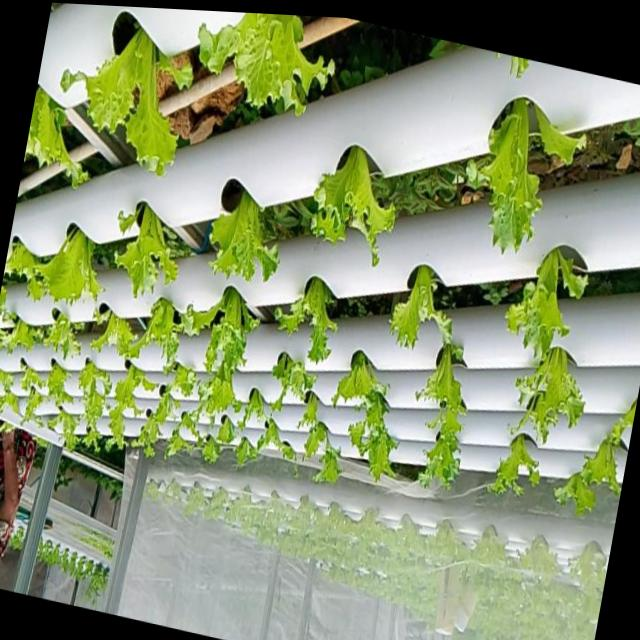Baby: (57, 32, 189, 178), (195, 13, 330, 116), (463, 98, 537, 252), (307, 145, 393, 265), (501, 246, 582, 357), (413, 333, 463, 486), (206, 179, 276, 280), (510, 345, 579, 441), (111, 202, 175, 296), (33, 227, 100, 308), (272, 275, 334, 362), (115, 297, 190, 367), (387, 263, 448, 347), (346, 391, 393, 479), (574, 420, 622, 493), (254, 350, 313, 409), (328, 349, 385, 404), (484, 431, 535, 492), (74, 359, 108, 444), (194, 360, 238, 421), (44, 410, 75, 450), (42, 363, 67, 407), (167, 364, 193, 397), (18, 387, 40, 423), (173, 410, 196, 439)
